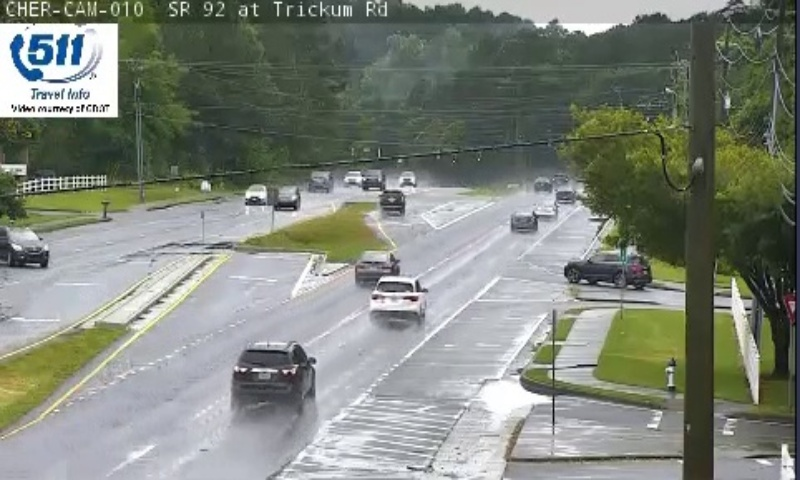car: (234, 342, 313, 402), (368, 276, 424, 321), (355, 250, 398, 285), (378, 189, 405, 212), (509, 211, 536, 232)
